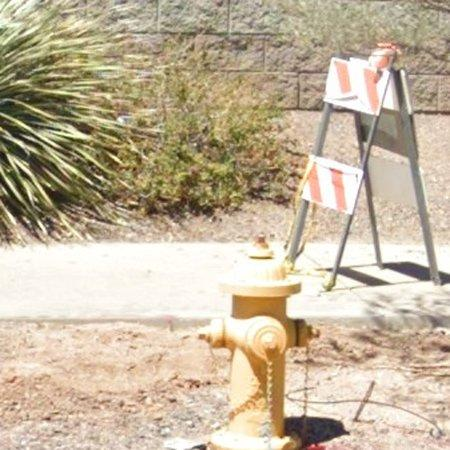a fire hydrant: (199, 237, 313, 450)
